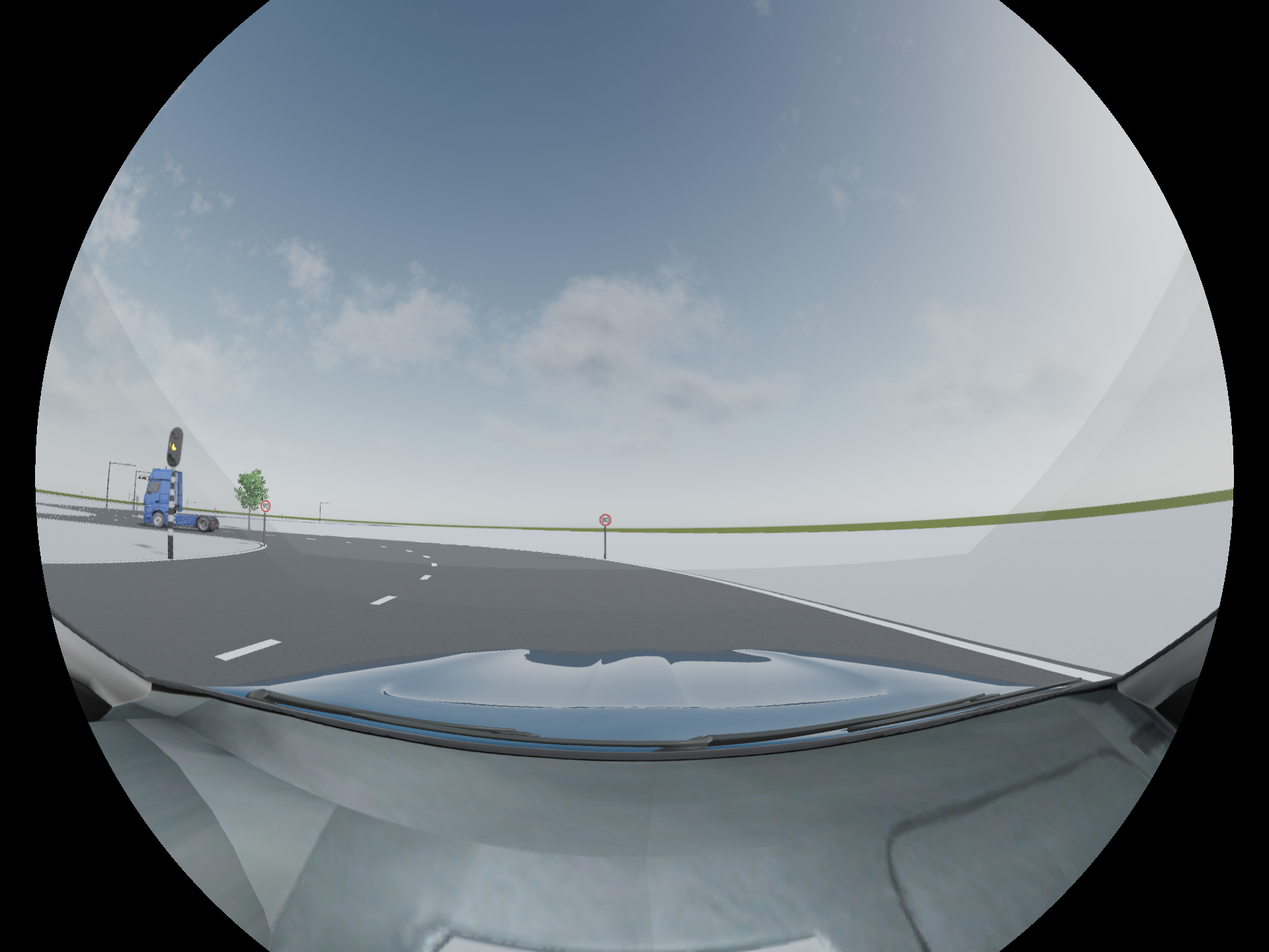Speed Limit 80: (600, 514, 611, 526)
Speed Limit 90: (261, 501, 270, 512)
